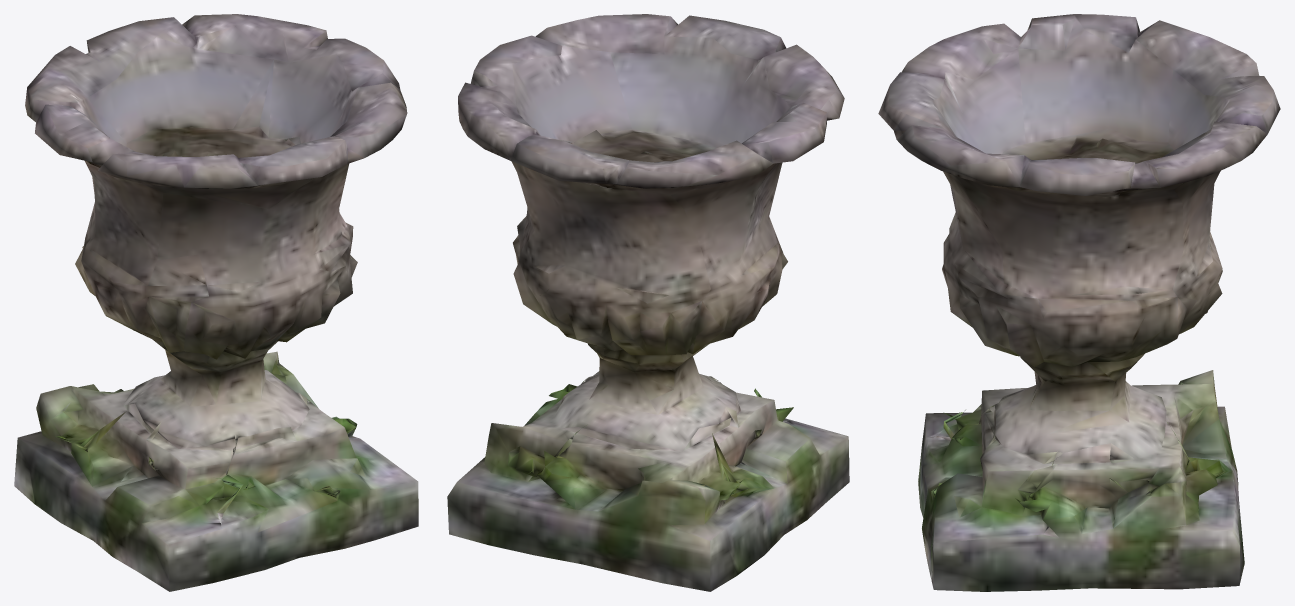
Rendered from urn.glb.
The picture shows the model from 3 angles, left to right: view 1: azimuth 30°, elevation 25°; view 2: azimuth 150°, elevation 25°; view 3: azimuth 270°, elevation 25°; orthographic projection. The views are drawn at different scales.
Parts seen in each view (by area): view 1: low; view 2: low; view 3: low.
Part boxes in pixels (bbox=[...]): low: bbox=[14, 14, 418, 591]; low: bbox=[447, 14, 849, 591]; low: bbox=[878, 14, 1280, 591].
Bounding box in the file's own units: 1.33 × 1.6 × 1.34.
1 material, 1 textured.
